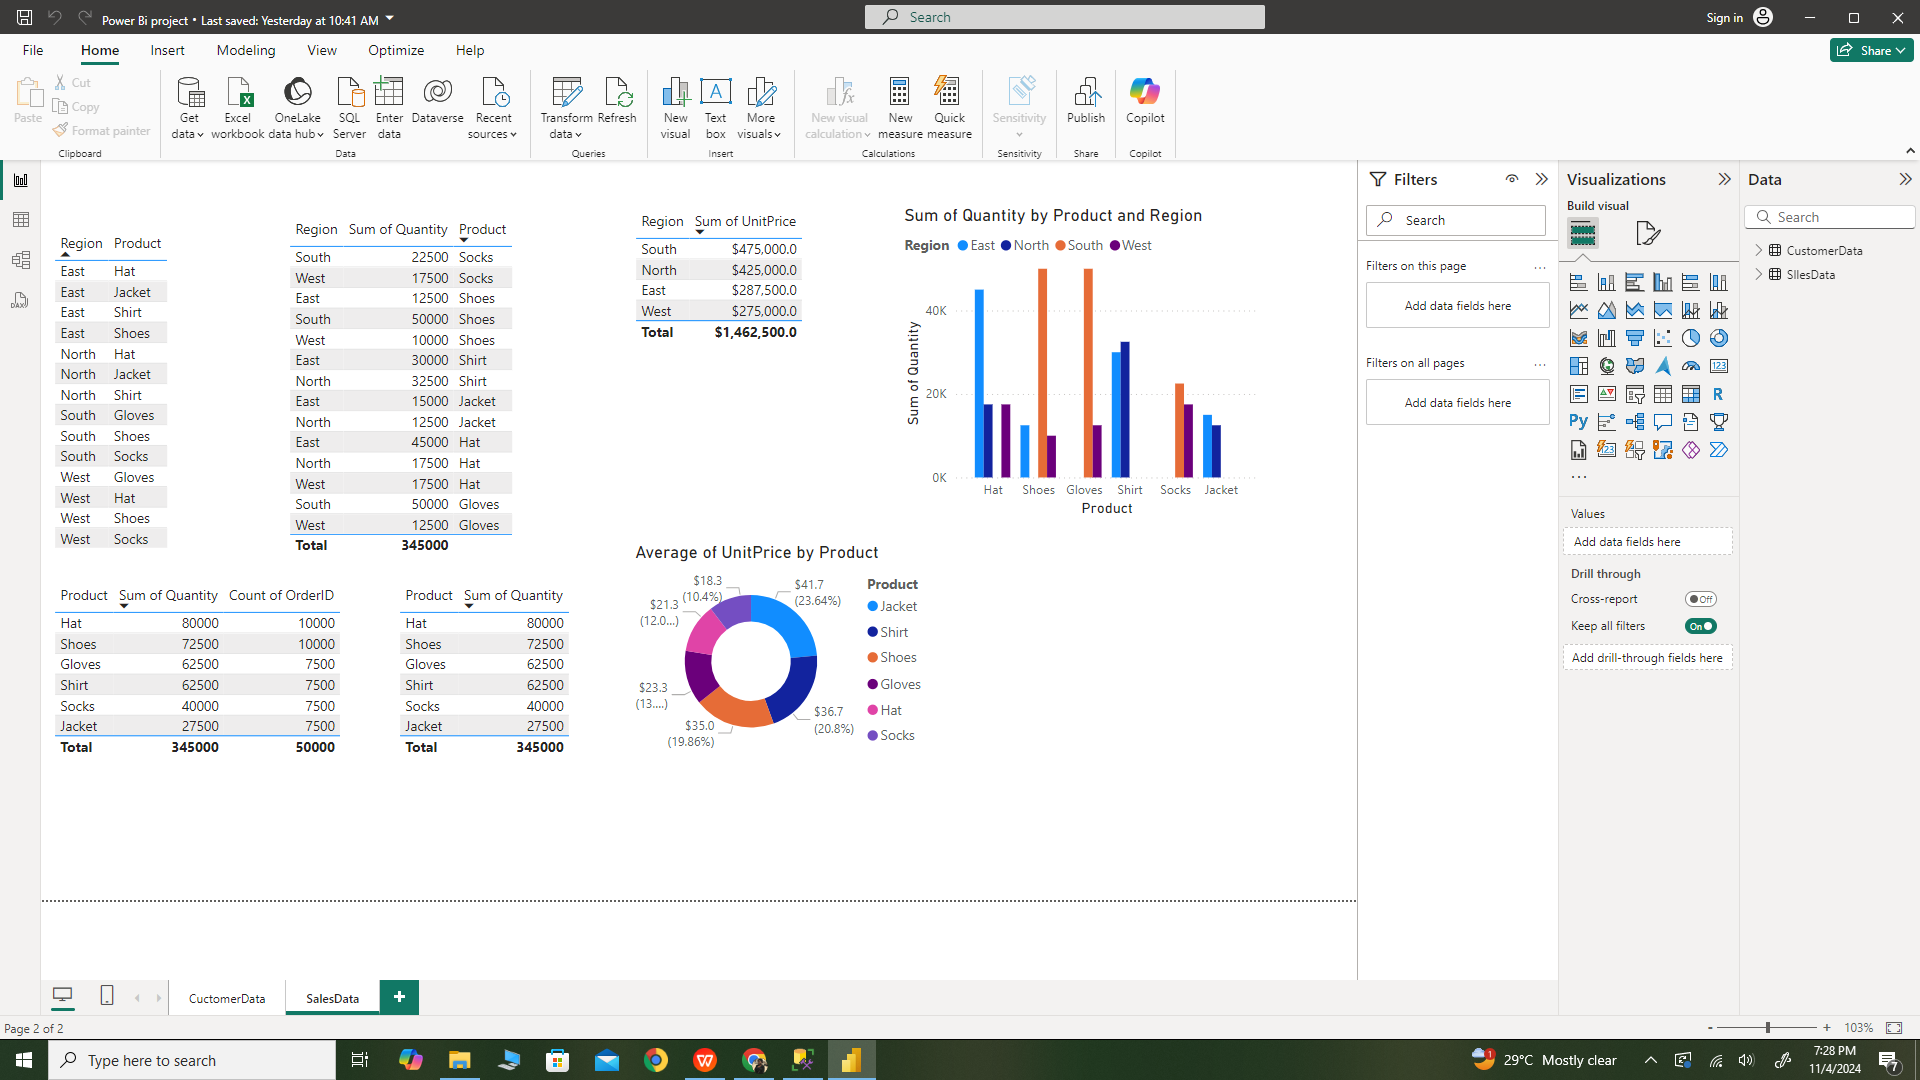

The dashboard page shown, as its layout file describes it:
{"tool":"powerbi","page":{"name":"SalesData","canvas":[1280,720],"ordinal":1},"visuals":[{"type":"tableEx","fields":{"Values":["SllesData.Region","SllesData.Product"]},"box":[7.8,65.2,177,332.6],"z":0},{"type":"tableEx","fields":{"Values":["SllesData.Region","Sum(SllesData.UnitPrice)"]},"box":[572.9,43.8,223.7,281.1],"z":1000},{"type":"tableEx","fields":{"Values":["SllesData.Region","Sum(SllesData.Quantity)","SllesData.Product"]},"box":[236.4,51.6,292.8,346.3],"z":2000},{"type":"clusteredColumnChart","fields":{"Category":["SllesData.Product"],"Y":["Sum(SllesData.Quantity)"],"Series":["SllesData.Region"]},"box":[834.5,43.8,354,308.3],"z":3000},{"type":"tableEx","fields":{"Values":["SllesData.Product","Sum(SllesData.Quantity)","CountNonNull(SllesData.OrderID)"]},"box":[7.8,407.5,334.6,197.4],"z":4000},{"type":"tableEx","fields":{"Values":["SllesData.Product","Sum(SllesData.Quantity)"]},"box":[343.3,407.5,215.9,177],"z":5000},{"type":"donutChart","fields":{"Y":["Avg(SllesData.UnitPrice)"],"Category":["SllesData.Product"]},"box":[572.9,371.6,304.4,213],"z":5001}]}

Visuals, with their boxes on the page's 1280x720 design canvas (x1, y1, x2, y2). These are canvas units, not pixel positions in the 1920x1080 screenshot, which may show the page scaled, cropped or inside an application window:
tableEx - SllesData.Region x SllesData.Product: bbox(8, 65, 185, 398)
tableEx - SllesData.Region x Sum(SllesData.UnitPrice): bbox(573, 44, 797, 325)
tableEx - SllesData.Region x Sum(SllesData.Quantity): bbox(236, 52, 529, 398)
clusteredColumnChart - SllesData.Product x Sum(SllesData.Quantity): bbox(834, 44, 1188, 352)
tableEx - SllesData.Product x Sum(SllesData.Quantity): bbox(8, 408, 342, 605)
tableEx - SllesData.Product x Sum(SllesData.Quantity): bbox(343, 408, 559, 584)
donutChart - Avg(SllesData.UnitPrice) x SllesData.Product: bbox(573, 372, 877, 585)
